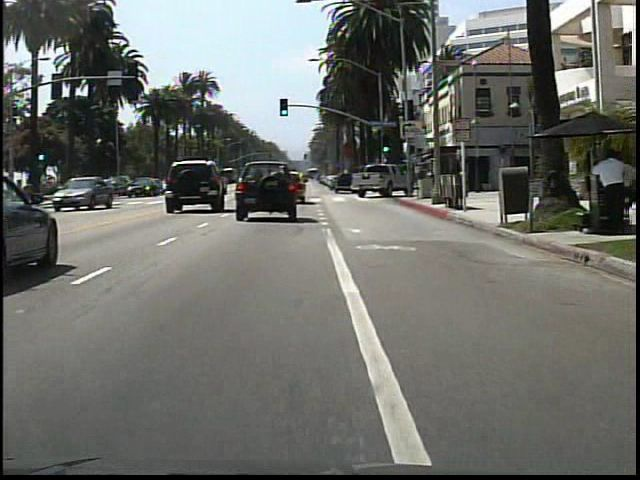person: (594, 148, 630, 234)
